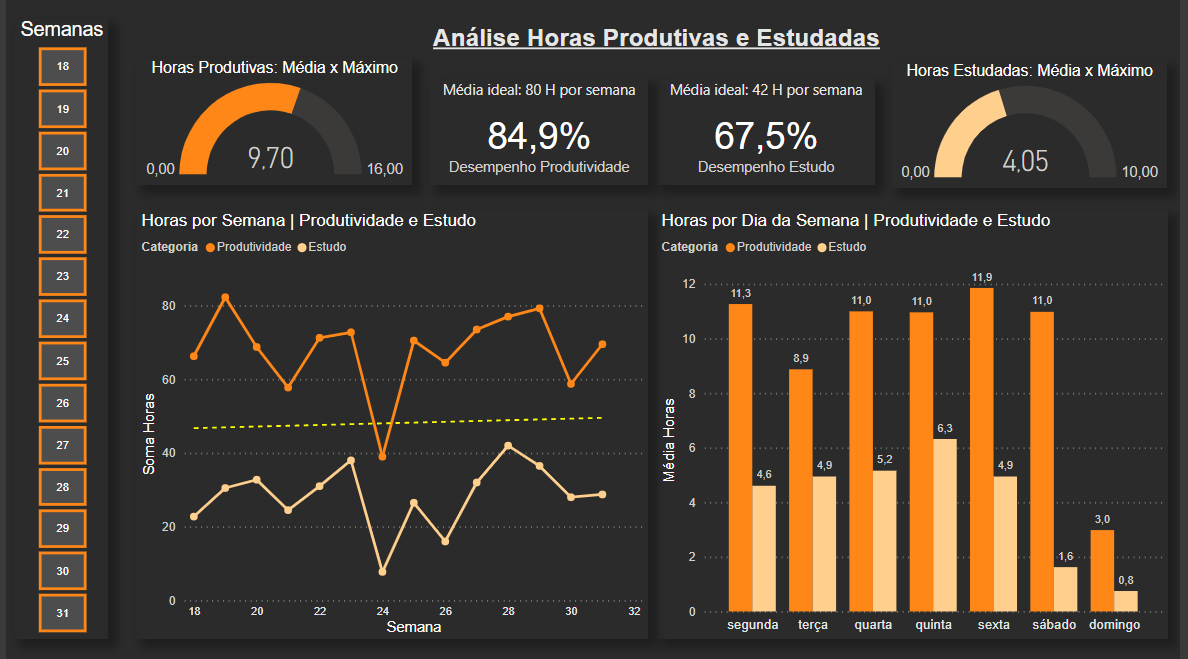

What the dashboard file says about the page in this screenshot:
{"tool":"powerbi","page":{"name":"Análise Horas","canvas":[1280,720],"ordinal":0},"visuals":[{"type":"clusteredColumnChart","title":"Horas por Dia da Semana | Produtividade e Estudo","fields":{"Category":["Concurseiro.Dia"],"Y":["Avg(Concurseiro.Horas)"],"Series":["Concurseiro.Categoria"]},"box":[710.1,229.6,557,467.7],"z":0},{"type":"lineChart","title":"Horas por Semana | Produtividade e Estudo","fields":{"Category":["Concurseiro.Semana"],"Y":["Sum(Concurseiro.Horas)"],"Series":["Concurseiro.Categoria"]},"box":[143.1,229.6,557,467.7],"z":1000},{"type":"gauge","title":"Horas Produtivas: Média x Máximo","fields":{"MinValue":["Min(Concurseiro.Horas)"],"MaxValue":["Max(Concurseiro.Horas)"],"Y":["Avg(Concurseiro.Horas)1"]},"box":[143.1,63.8,300.5,138.9],"z":2000},{"type":"gauge","title":"Horas Estudadas: Média x Máximo","fields":{"MinValue":["Min(Concurseiro.Horas)"],"MaxValue":["Max(Concurseiro.Horas)"],"Y":["Avg(Concurseiro.Horas)1"]},"box":[966.6,66.6,300.5,138.9],"z":3000},{"type":"card","title":"Média ideal: 80 H por semana","fields":{"Values":["Concurseiro.%Prod"]},"box":[462,86.5,238.1,116.2],"z":4000},{"type":"card","title":"Média ideal: 42 H por semana","fields":{"Values":["Concurseiro.%Est"]},"box":[710.1,86.5,238.1,116.2],"z":5000},{"type":"slicer","title":"Semanas","fields":{"Values":["Concurseiro.Semana"]},"box":[9.9,21.3,102,676.1],"z":6000},{"type":"textbox","box":[371.3,21.3,677.5,90.7],"z":7000}]}

Visuals, with their boxes in screenshot pixels (x1, y1, x2, y2), scaled from the page's 1280x720 canvas onto the 1188x659 screenshot:
"Horas por Dia da Semana | Produtividade e Estudo" clusteredColumnChart: [659, 210, 1176, 638]
"Horas por Semana | Produtividade e Estudo" lineChart: [133, 210, 650, 638]
"Horas Produtivas: Média x Máximo" gauge: [133, 58, 412, 186]
"Horas Estudadas: Média x Máximo" gauge: [897, 61, 1176, 188]
"Média ideal: 80 H por semana" card: [429, 79, 650, 186]
"Média ideal: 42 H por semana" card: [659, 79, 880, 186]
"Semanas" slicer: [9, 19, 104, 638]
textbox: [345, 19, 973, 103]
